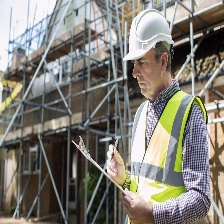helmet: (122, 6, 177, 64)
person: (116, 11, 214, 222)
vest: (130, 89, 209, 211)
